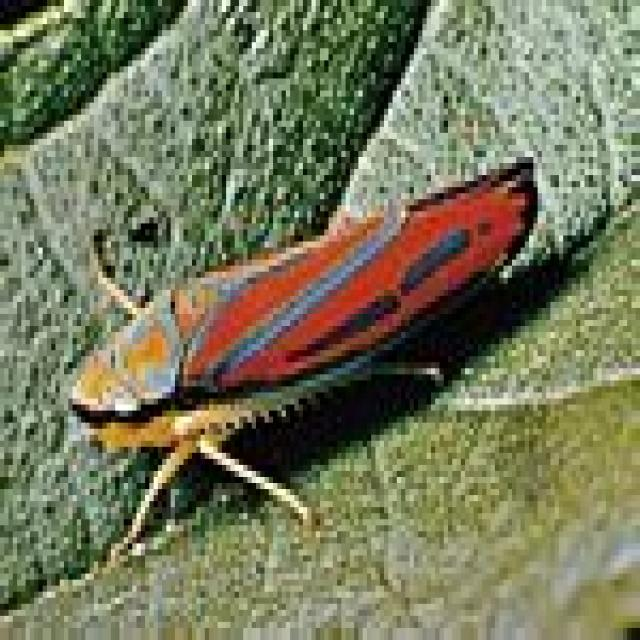Yechan: (64, 145, 547, 536)
